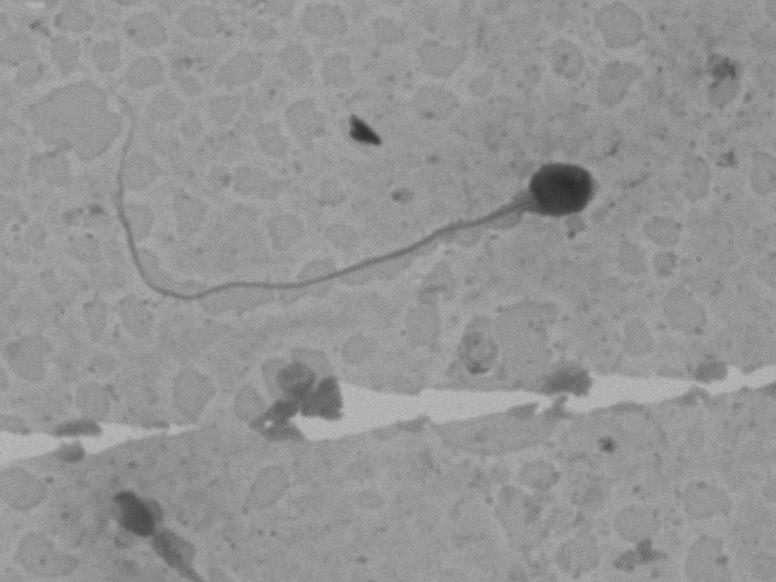Abnormal: (90, 88, 622, 336)
